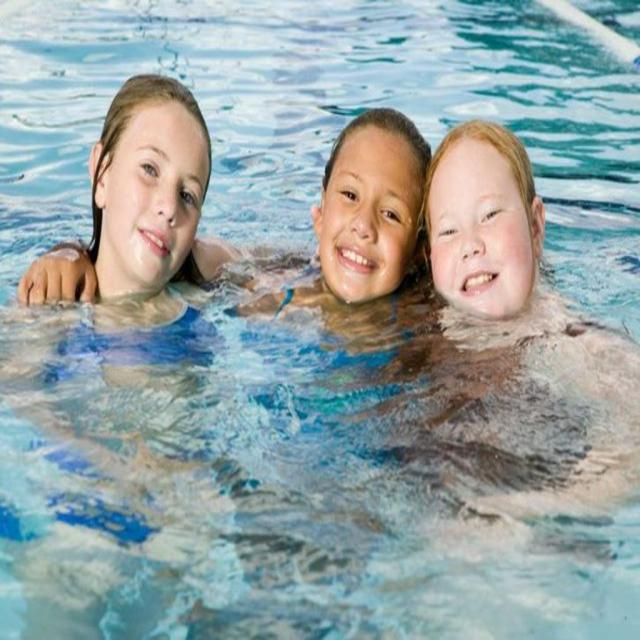Face: (109, 101, 216, 291), (316, 128, 425, 314), (416, 144, 525, 329)
